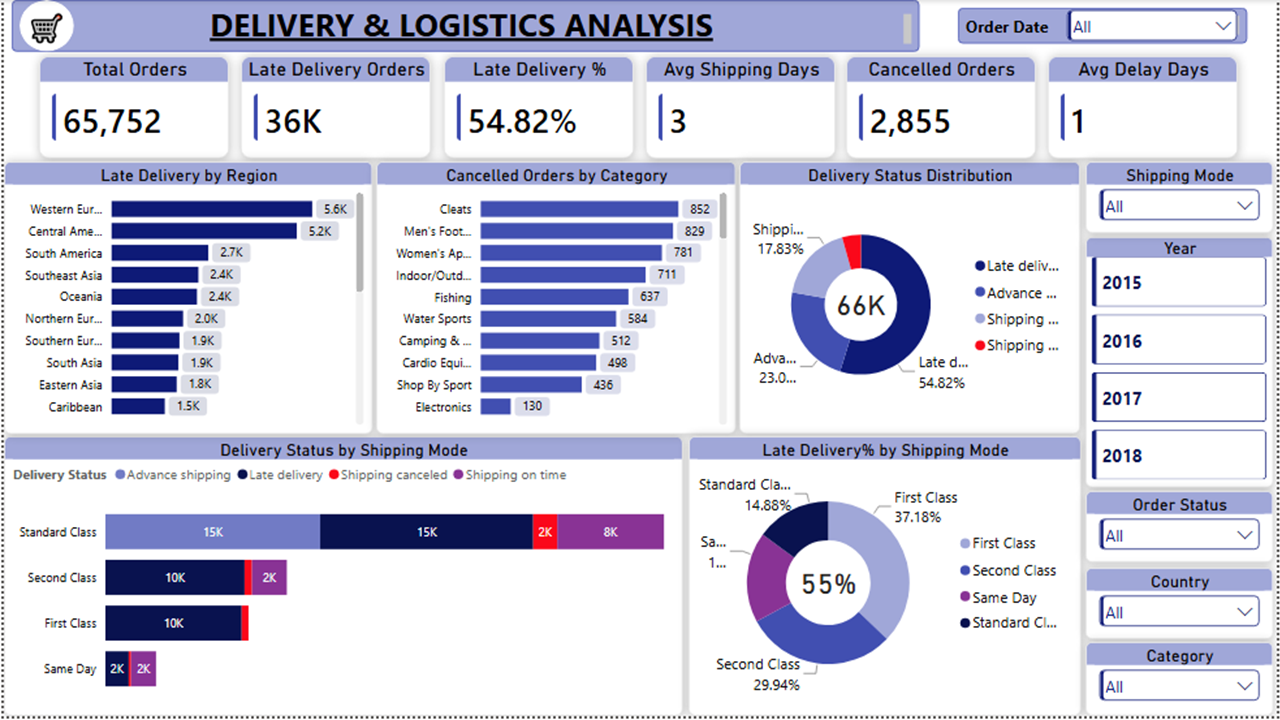

What the dashboard file says about the page in this screenshot:
{"tool":"powerbi","page":{"name":"Delivery & Logistics Analysis","canvas":[1280,720],"ordinal":1},"visuals":[{"type":"barChart","title":"Delivery Status by Shipping Mode","fields":{"Category":["DataCoSupplyChainDataset.Shipping Mode"],"Series":["DataCoSupplyChainDataset.Delivery Status"],"Y":["Measures Table.Total Orders"]},"box":[0,439.1,682.6,280.8],"z":0},{"type":"cardVisual","title":"Total Orders","fields":{"Data":["Measures Table.Total Orders"]},"box":[35.4,56.6,191.3,103.2],"z":1000},{"type":"cardVisual","title":"Late Delivery Orders","fields":{"Data":["Measures Table.Late_Delivery"]},"box":[238.7,56.6,191.3,103.2],"z":2000},{"type":"clusteredBarChart","title":"Late Delivery by Region","fields":{"Category":["DataCoSupplyChainDataset.Order Region"],"Y":["Measures Table.Late_Delivery"]},"box":[0,162.4,371,273.6],"z":3000},{"type":"cardVisual","title":"Late Delivery %","fields":{"Data":["Measures Table.Late_Delivery%"]},"box":[442.4,56.6,191.3,103.2],"z":4000},{"type":"clusteredBarChart","title":"Cancelled Orders by Category","fields":{"Category":["DataCoSupplyChainDataset.Category Name"],"Y":["Measures Table.Total_Shipping_cancelled"]},"box":[374.4,162.4,362,273.9],"z":5000},{"type":"cardVisual","title":"Avg Shipping Days","fields":{"Data":["Avg(DataCoSupplyChainDataset.Days for shipping (real))"]},"box":[645.1,56.6,191.3,103.2],"z":6000},{"type":"donutChart","title":"Delivery Status Distribution","fields":{"Category":["DataCoSupplyChainDataset.Delivery Status"],"Y":["Measures Table.Total Orders"]},"box":[739.1,162.4,342.7,273.9],"z":7000},{"type":"cardVisual","title":"Cancelled Orders","fields":{"Data":["Measures Table.Total_Shipping_cancelled"]},"box":[847.4,56.6,191.3,103.2],"z":8000},{"type":"cardVisual","title":"Avg Delay Days","fields":{"Data":["Avg(DataCoSupplyChainDataset.Shipping_delay_days)"]},"box":[1049.8,56.6,191.3,103.2],"z":9000},{"type":"donutChart","title":"Late Delivery% by Shipping Mode","fields":{"Category":["DataCoSupplyChainDataset.Shipping Mode"],"Y":["Measures Table.Late_Delivery%"]},"box":[688.2,439.1,395,280.8],"z":10000},{"type":"advancedSlicerVisual","title":"Year","fields":{"Values":["Calendar_Table.Year"]},"box":[1087.3,238.1,188.6,251.9],"z":11000},{"type":"slicer","title":"Order Status","fields":{"Values":["DataCoSupplyChainDataset.Order Status"]},"box":[1087.3,494.1,188.6,71.6],"z":12000},{"type":"slicer","title":"Country","fields":{"Values":["DataCoSupplyChainDataset.Order Country"]},"box":[1087.3,571.2,188.6,71.6],"z":13000},{"type":"textbox","box":[959,7.2,290.9,36],"z":14000},{"type":"slicer","title":"Order Date","fields":{"Values":["Calendar_Table.Date"]},"box":[1064.2,0,181.4,47.5],"z":15000},{"type":"slicer","title":"Category","fields":{"Values":["DataCoSupplyChainDataset.Category Name"]},"box":[1087.3,645.5,188.6,74.3],"z":16000},{"type":"slicer","title":"Shipping Mode","fields":{"Values":["DataCoSupplyChainDataset.Shipping Mode"]},"box":[1087.3,162.4,188.6,72],"z":17000},{"type":"textbox","box":[7.5,0,913,51.8],"z":18000},{"type":"shape","box":[16.2,0,54.8,51.7],"z":19000}]}

Visuals, with their boxes in screenshot pixels (x1, y1, x2, y2), scaled from the page's 1280x720 canvas onto the 1280x720 screenshot:
"Delivery Status by Shipping Mode" barChart: bbox=[0, 439, 683, 719]
"Total Orders" cardVisual: bbox=[35, 57, 227, 160]
"Late Delivery Orders" cardVisual: bbox=[239, 57, 430, 160]
"Late Delivery by Region" clusteredBarChart: bbox=[0, 162, 371, 436]
"Late Delivery %" cardVisual: bbox=[442, 57, 634, 160]
"Cancelled Orders by Category" clusteredBarChart: bbox=[374, 162, 736, 436]
"Avg Shipping Days" cardVisual: bbox=[645, 57, 836, 160]
"Delivery Status Distribution" donutChart: bbox=[739, 162, 1082, 436]
"Cancelled Orders" cardVisual: bbox=[847, 57, 1039, 160]
"Avg Delay Days" cardVisual: bbox=[1050, 57, 1241, 160]
"Late Delivery% by Shipping Mode" donutChart: bbox=[688, 439, 1083, 719]
"Year" advancedSlicerVisual: bbox=[1087, 238, 1276, 490]
"Order Status" slicer: bbox=[1087, 494, 1276, 566]
"Country" slicer: bbox=[1087, 571, 1276, 643]
textbox: bbox=[959, 7, 1250, 43]
"Order Date" slicer: bbox=[1064, 0, 1246, 48]
"Category" slicer: bbox=[1087, 646, 1276, 719]
"Shipping Mode" slicer: bbox=[1087, 162, 1276, 234]
textbox: bbox=[8, 0, 920, 52]
shape: bbox=[16, 0, 71, 52]
